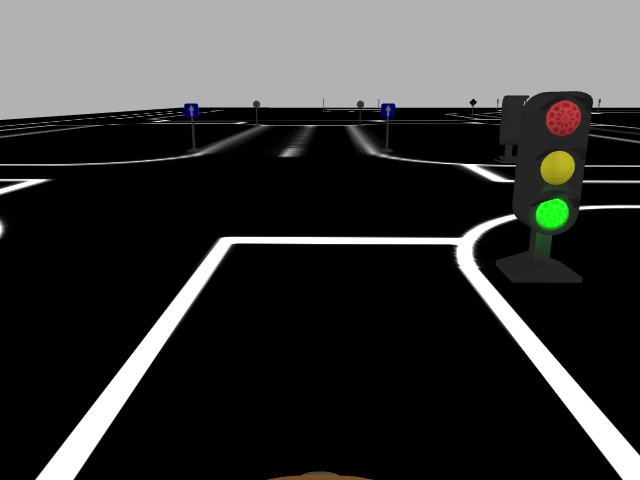green_light: (513, 87, 598, 242)
oneway: (182, 101, 200, 120), (380, 102, 396, 120)
